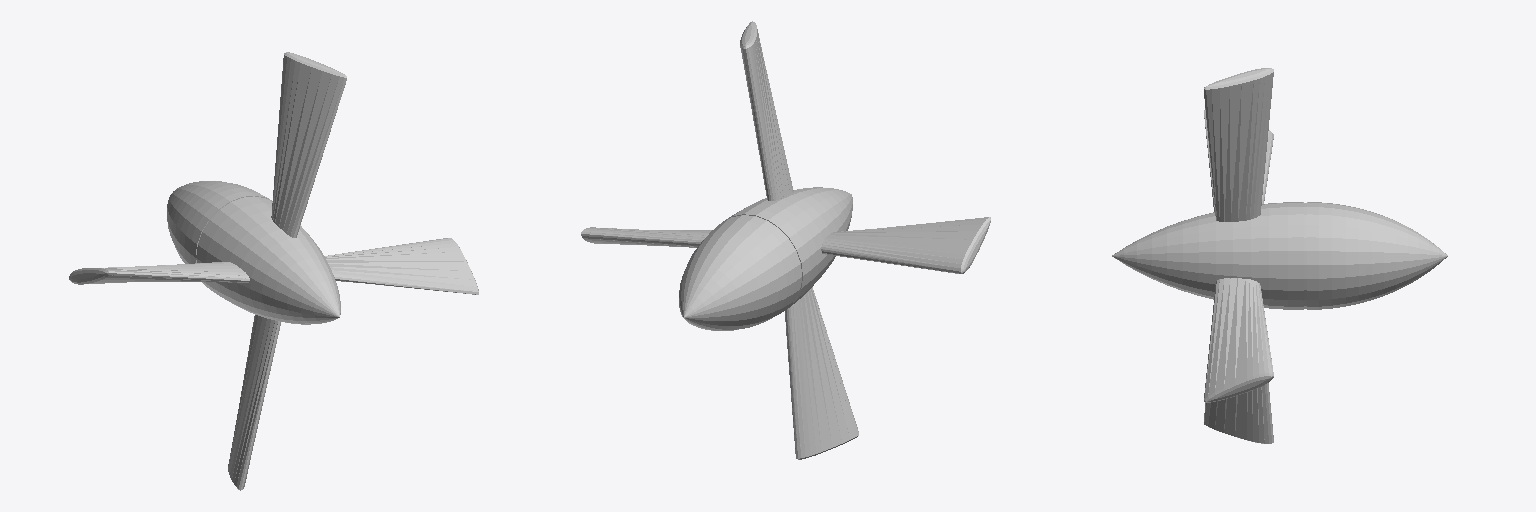
The model's file is prop.obj.
3 renders of one model, left to right at view 1: azimuth 30°, elevation 25°; view 2: azimuth 150°, elevation 25°; view 3: azimuth 270°, elevation 25°, orthographic.
Bounding box in the file's own units: 17.88 × 17.88 × 13.59.